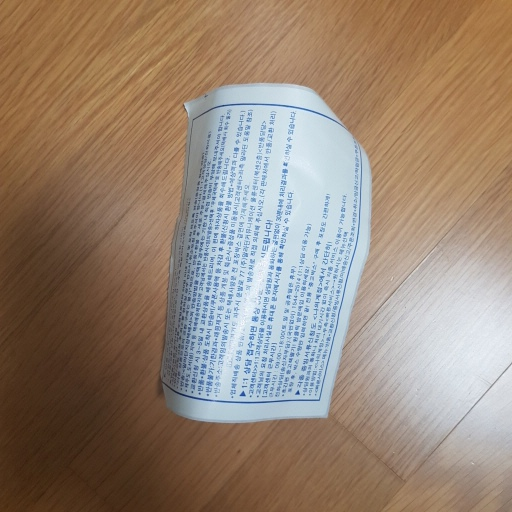Paper_2: (156, 85, 380, 442)
